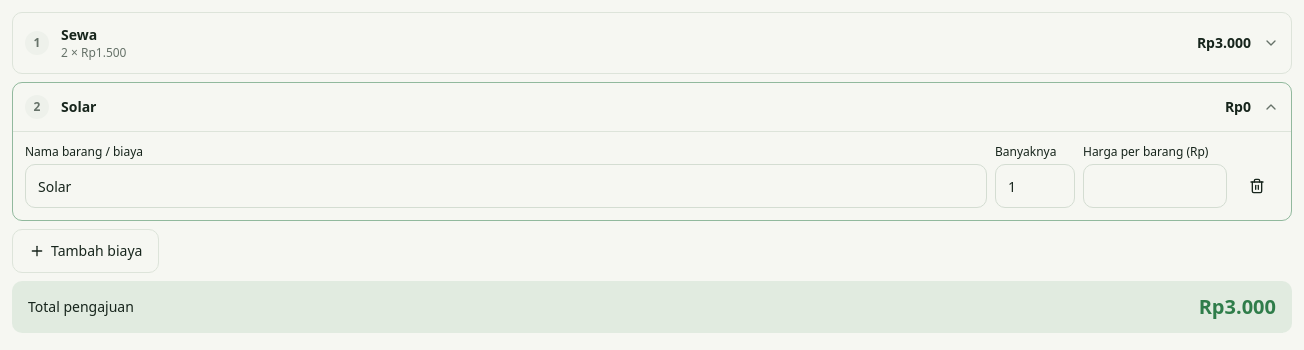
Test: finance shared › edits one line at a time and says which are unfinished
Expected: the number of fields labelled "Nama barang / biaya" is 1, 25,164 -> 987,208
Expected: the field labelled "Nama barang / biaya" holds "Solar", 25,164 -> 987,208
Step 1. Click the button "1 Sewa 2 × Rp1.500 Rp3.000" → point(79, 34), box 13,13 -> 1291,73
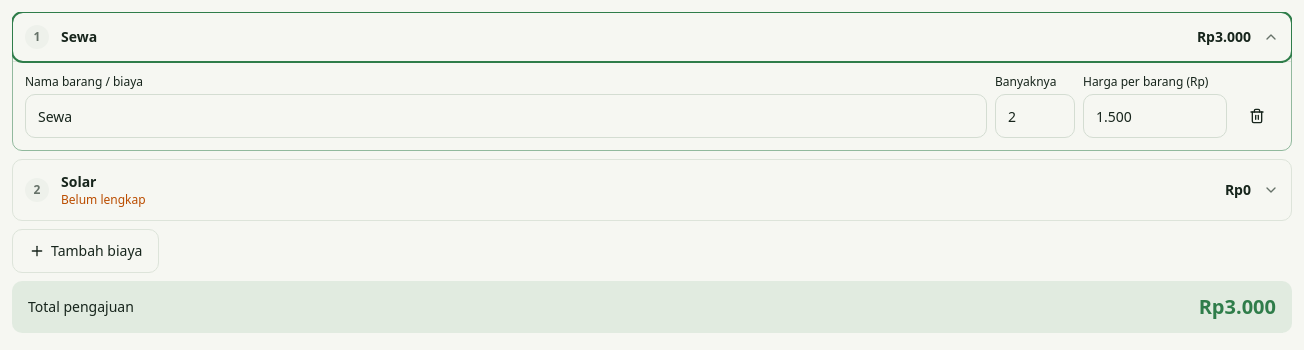
Result: the field labelled "Nama barang / biaya" holds "Sewa" at 25,94 -> 987,138
Result: the text "Belum lengkap" is shown at 61,191 -> 146,208
